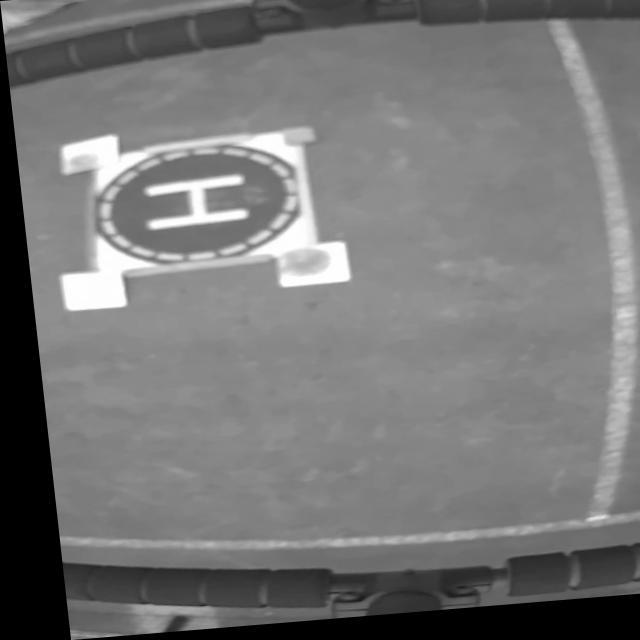Helipad: (137, 175, 247, 232)
